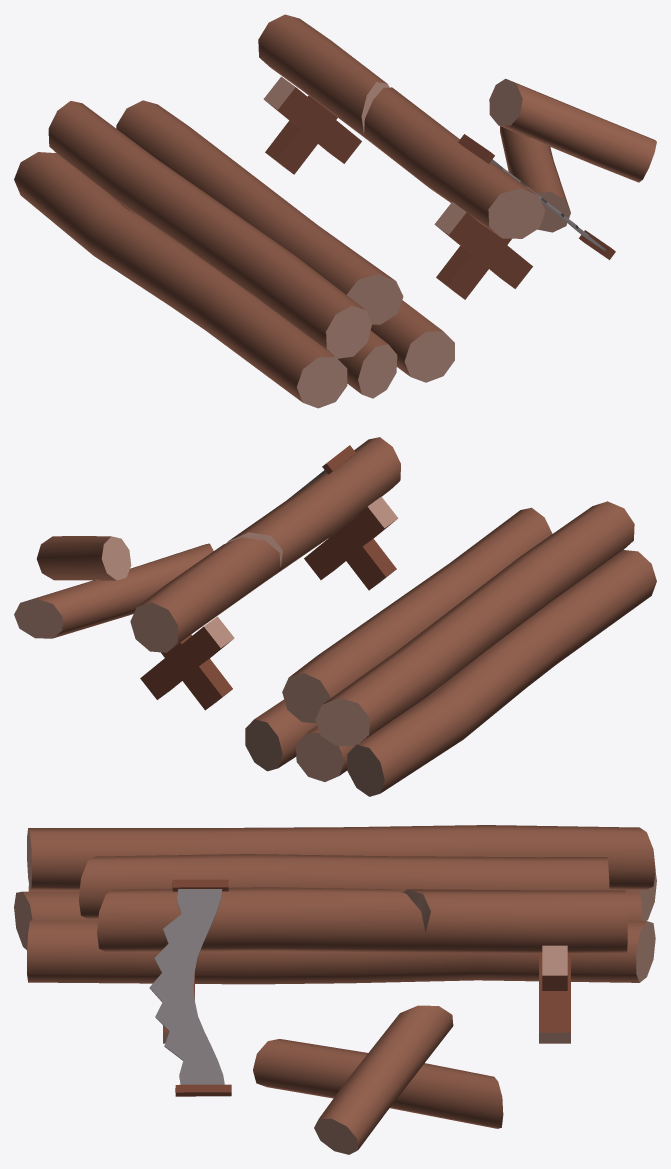
The model's file is Environment_Sawmill.glb.
3 renders of one model, top to bottom at view 1: azimuth 30°, elevation 25°; view 2: azimuth 150°, elevation 25°; view 3: azimuth 270°, elevation 25°, orthographic. The views are drawn at different scales.
Parts seen in each view (by area): view 1: Environment_Sawmill; view 2: Environment_Sawmill; view 3: Environment_Sawmill.
Boxes of the visible parts, x1,y1,x2,y2 form: Environment_Sawmill: (14, 14, 656, 408); Environment_Sawmill: (14, 437, 656, 796); Environment_Sawmill: (14, 825, 656, 1154).
Bounding box in the file's own units: 2.07 × 0.5935 × 2.06.
1 material, 1 textured.
